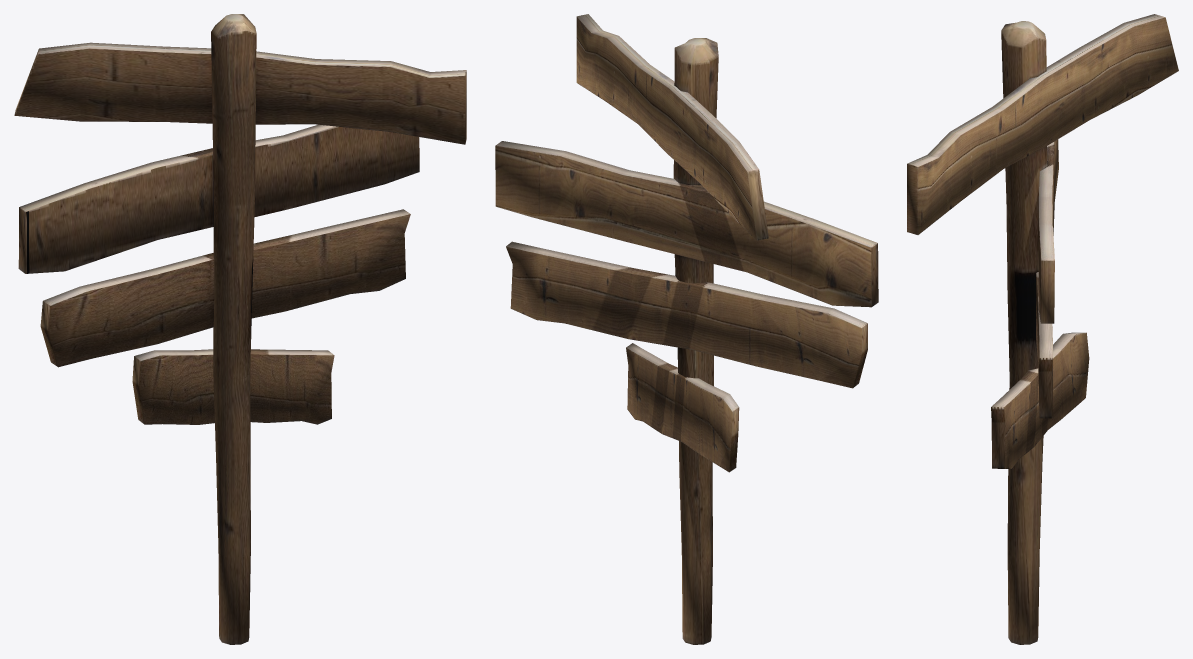
File: signpost.glb
The picture shows the model from 3 angles, left to right: view 1: azimuth 30°, elevation 25°; view 2: azimuth 150°, elevation 25°; view 3: azimuth 270°, elevation 25°; orthographic projection. The views are drawn at different scales.
Parts seen in each view (by area): view 1: 1 about.001, 2 token.001, 3 utility.001, SIGN, 4 faq.001; view 2: 2 token.001, 3 utility.001, 1 about.001, SIGN, 4 faq.001; view 3: 1 about.001, SIGN, 4 faq.001, 2 token.001, 3 utility.001.
Boxes of the visible parts, x1,y1,x2,y2 form: 1 about.001: (14,42,466,144); 2 token.001: (18,124,419,273); 3 utility.001: (40,209,410,367); SIGN: (211,14,256,644); 4 faq.001: (132,349,334,424); 2 token.001: (495,141,878,307); 3 utility.001: (506,241,867,388); 1 about.001: (576,14,768,240); SIGN: (673,38,718,644); 4 faq.001: (626,343,739,472); 1 about.001: (907,14,1178,234); SIGN: (1001,21,1046,644); 4 faq.001: (991,332,1089,468); 2 token.001: (1038,139,1058,323); 3 utility.001: (1036,272,1052,418).
Size of the model in its own units: 2 by 3.02 by 1.21.
1 material, 1 textured.
